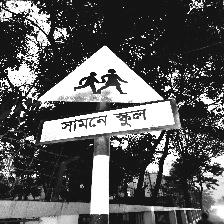School-in-front: (34, 46, 175, 145)
